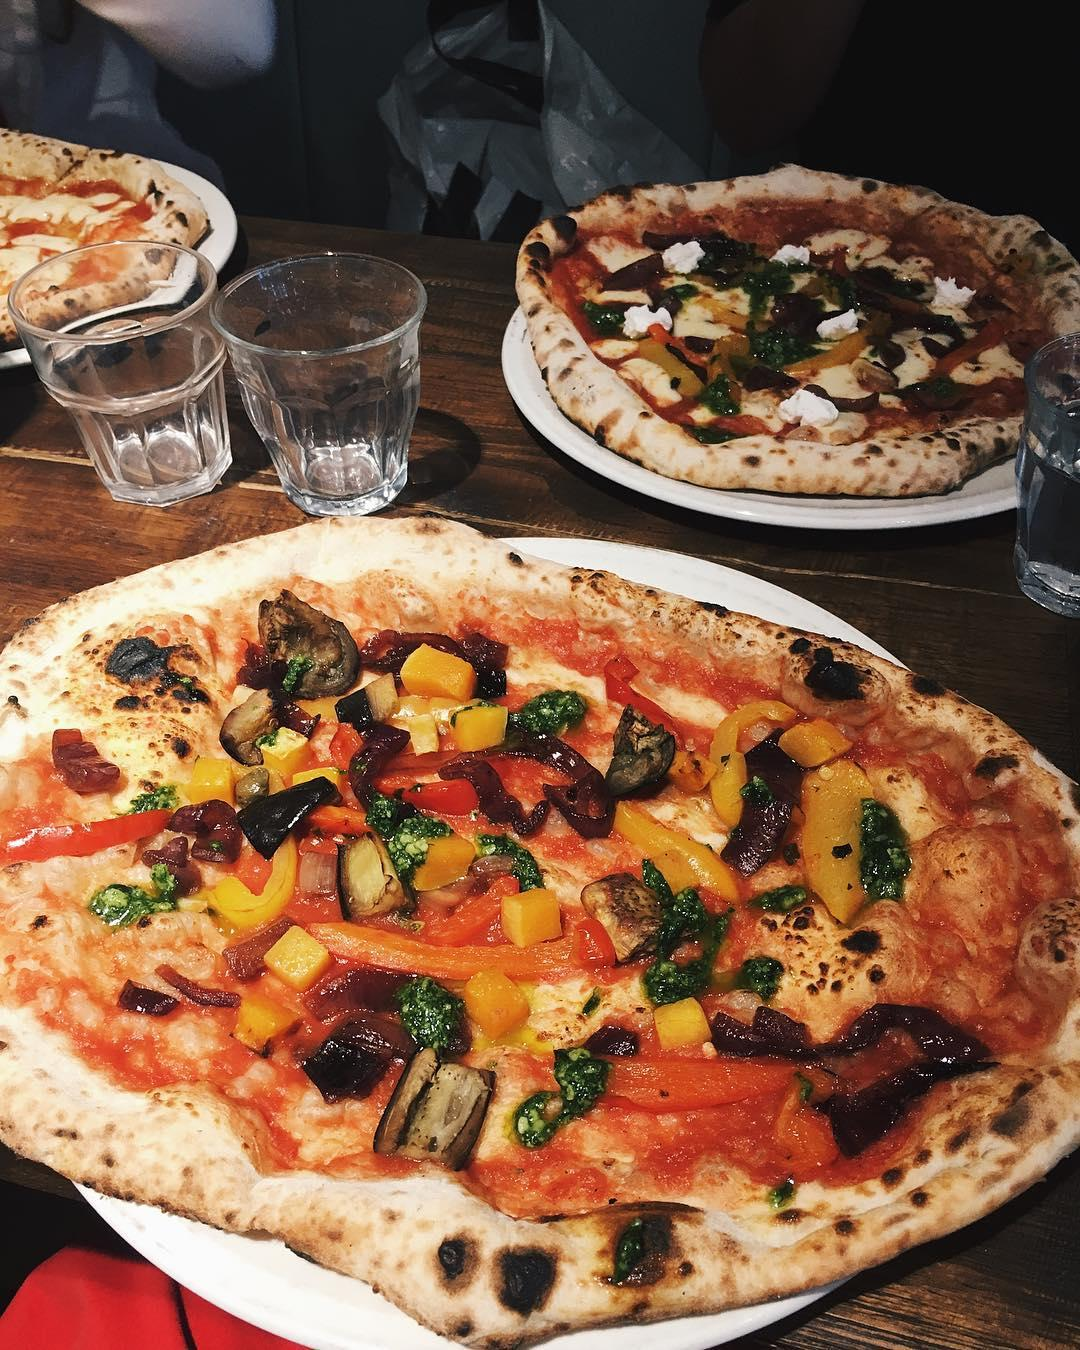Bacon: (213, 681, 328, 769), (37, 717, 127, 806), (295, 965, 428, 1023), (163, 788, 249, 865), (215, 917, 300, 985), (150, 957, 245, 1013), (133, 834, 210, 895), (114, 971, 183, 1025)
Basil: (736, 318, 820, 369), (690, 363, 746, 420), (704, 261, 787, 295), (574, 294, 631, 338), (813, 266, 863, 301), (696, 227, 756, 256)
Broccoli: (637, 914, 773, 1011), (520, 1037, 634, 1147), (100, 847, 186, 918), (370, 793, 447, 870), (851, 790, 903, 890), (384, 981, 466, 1043), (517, 694, 588, 752), (467, 838, 538, 885), (264, 650, 320, 704), (104, 634, 160, 685)
Cheese: (0, 186, 138, 218), (780, 384, 842, 432), (620, 304, 682, 338), (4, 237, 56, 277), (654, 237, 703, 277), (930, 274, 981, 312), (818, 311, 866, 346), (774, 230, 804, 277)
Mushroom: (369, 1041, 503, 1177), (255, 583, 360, 698), (577, 867, 670, 966), (331, 824, 414, 924), (602, 699, 678, 803), (332, 668, 400, 732), (322, 765, 327, 768)
Peppers: (331, 910, 628, 976), (368, 747, 602, 814), (801, 747, 887, 907), (601, 808, 727, 915), (705, 695, 796, 829), (602, 651, 687, 747), (201, 847, 303, 926), (594, 1068, 804, 1104), (264, 909, 327, 1004), (364, 768, 482, 817), (225, 993, 301, 1061), (164, 737, 239, 806), (642, 996, 719, 1058), (304, 792, 382, 851), (458, 971, 530, 1034), (498, 890, 570, 951), (251, 722, 318, 782), (781, 717, 853, 771), (303, 720, 367, 773), (404, 647, 477, 693), (445, 704, 511, 755), (396, 696, 446, 757), (668, 743, 722, 795), (289, 762, 345, 801)
Pizza: (4, 507, 1080, 1302), (500, 171, 1066, 504), (0, 120, 202, 357)
